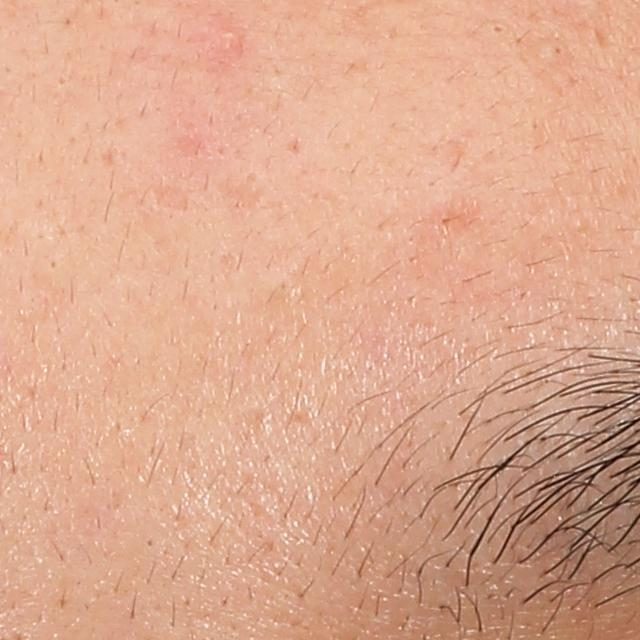comedo: (545, 44, 571, 61), (488, 20, 511, 38)
